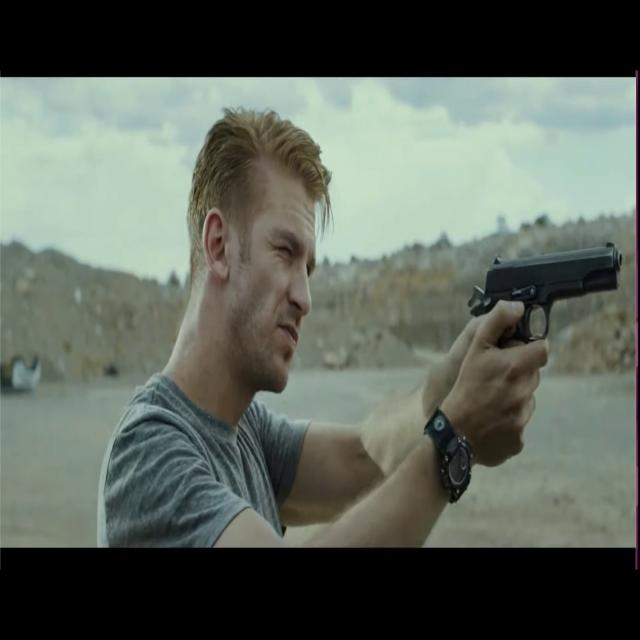weapons: (460, 228, 622, 388)
